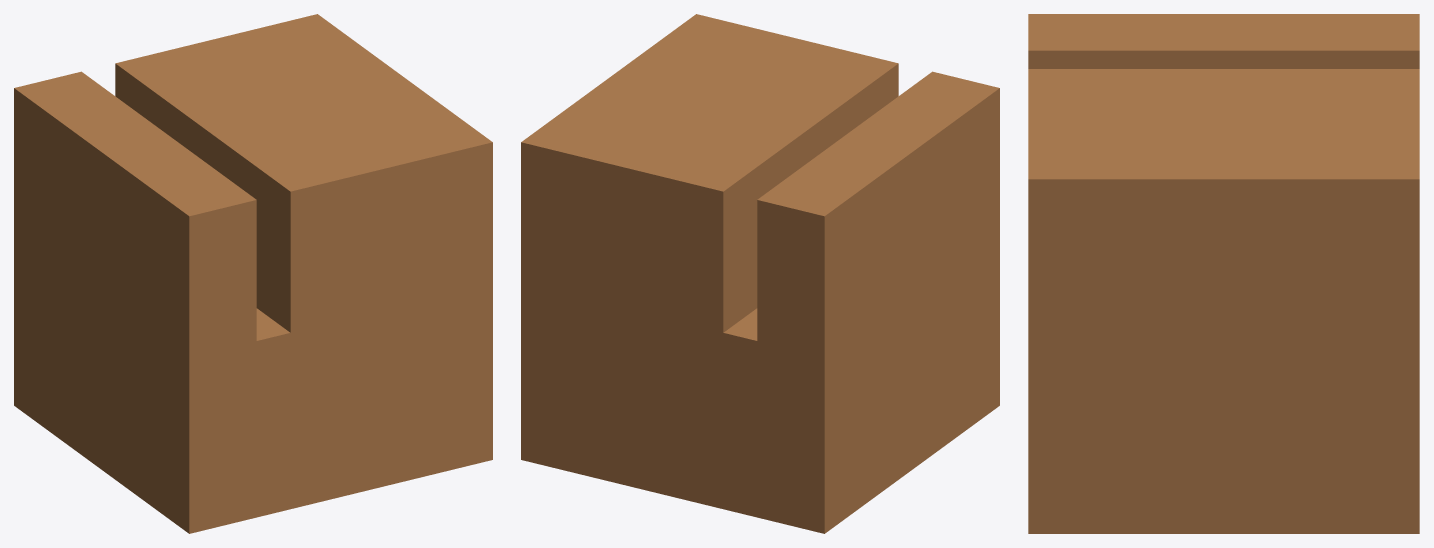
File: Thin_Straight_1S_Model.fbx
3 renders of one model, left to right at view 1: azimuth 30°, elevation 25°; view 2: azimuth 150°, elevation 25°; view 3: azimuth 270°, elevation 25°, orthographic. The views are drawn at different scales.
Parts seen in each view (by area): view 1: Cube; view 2: Cube; view 3: Cube.
Boxes of the visible parts, bbox=[...] form: Cube: bbox=[14, 14, 492, 533]; Cube: bbox=[521, 14, 999, 533]; Cube: bbox=[1028, 14, 1419, 533].
Bounding box in the file's own units: 100 × 100 × 100.
